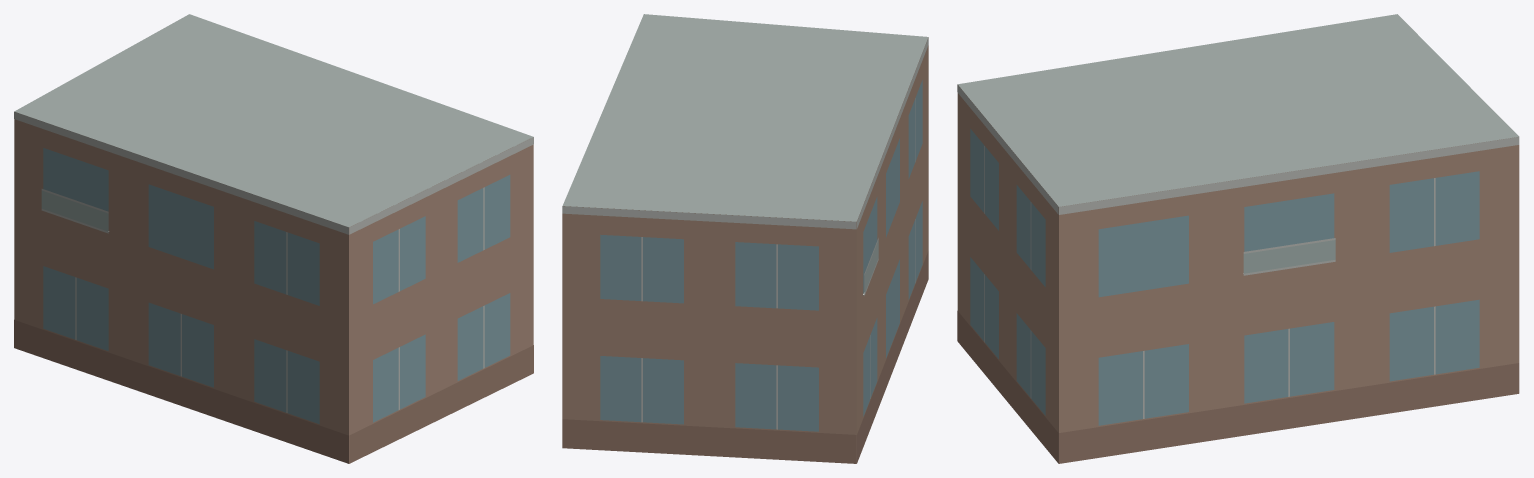
The model's file is survey-upis-32852116.glb.
The picture shows the model from 3 angles, left to right: view 1: azimuth 30°, elevation 25°; view 2: azimuth 150°, elevation 25°; view 3: azimuth 270°, elevation 25°; orthographic projection. The views are drawn at different scales.
Visible parts, largest first — view 1: survey-upis-32852116.tmp; view 2: survey-upis-32852116.tmp; view 3: survey-upis-32852116.tmp.
Part boxes in pixels (x1=…): survey-upis-32852116.tmp: x1=14, y1=14, x2=533, y2=463; survey-upis-32852116.tmp: x1=562, y1=14, x2=928, y2=463; survey-upis-32852116.tmp: x1=957, y1=14, x2=1519, y2=463.
Size of the model in its own units: 12.41 by 7.7 by 15.27.
